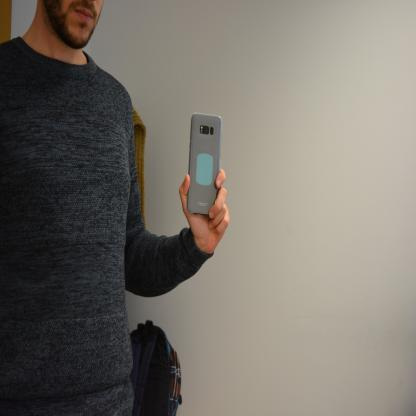smartphone: (186, 112, 223, 216)
